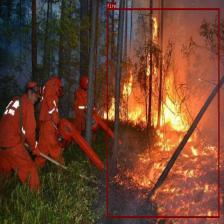fire: (107, 8, 219, 217)
